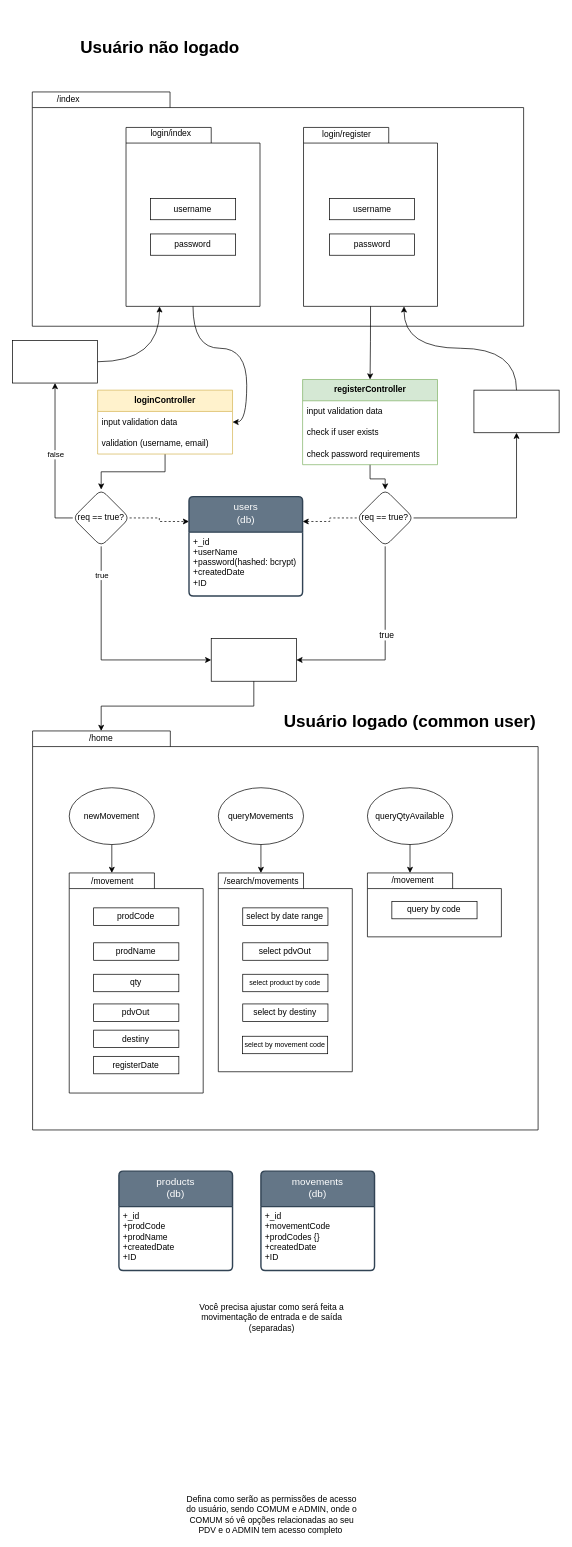
This 572x1547 diagram has some shape labels left out. Here are the shapes that lost their labels. From the top down, the centre of each, then its label:
At (x=55, y=361): "login.error return".
At (x=516, y=411): "register.error return".
At (x=253, y=659): "user session autenthication (express session)".
